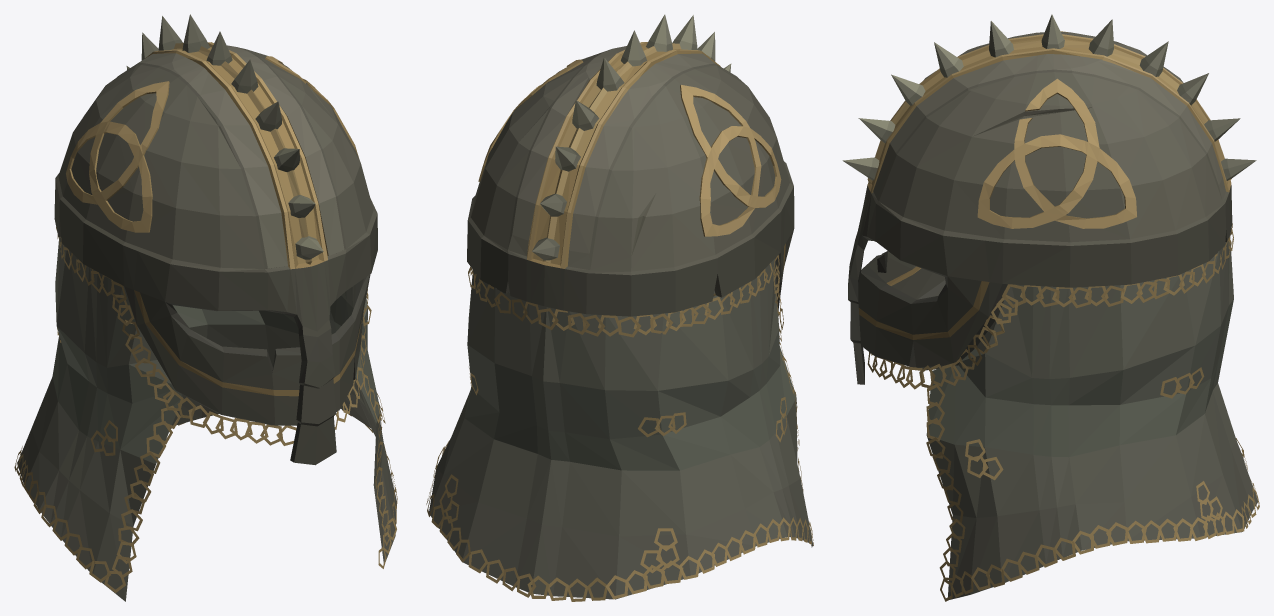
Rendered from heavyVikingHelmetEmblem.glb.
The picture shows the model from 3 angles, left to right: view 1: azimuth 30°, elevation 25°; view 2: azimuth 150°, elevation 25°; view 3: azimuth 270°, elevation 25°; orthographic projection.
Visible parts, largest first — view 1: heavyVikingHelmetEmblem; view 2: heavyVikingHelmetEmblem; view 3: heavyVikingHelmetEmblem.
Part boxes in pixels (left/top/right/bottom): heavyVikingHelmetEmblem: left=14, top=14, right=397, bottom=601; heavyVikingHelmetEmblem: left=426, top=14, right=813, bottom=601; heavyVikingHelmetEmblem: left=842, top=14, right=1259, bottom=601.
Size of the model in its own units: 0.3399 by 0.5123 by 0.3638.
